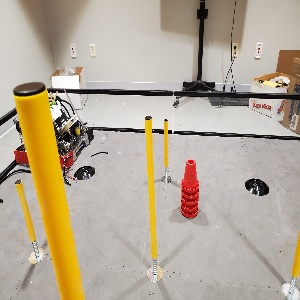Red_5: (181, 158, 198, 217)
